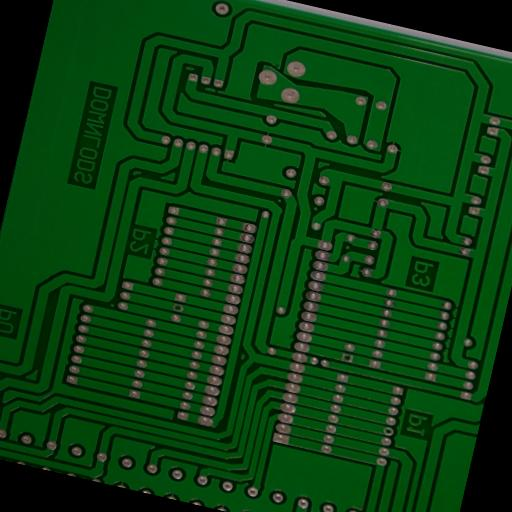missing_hole: (168, 300, 186, 314), (338, 352, 354, 363), (380, 426, 394, 436)
